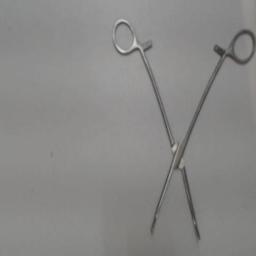Lahey Forceps: (107, 14, 255, 244)
